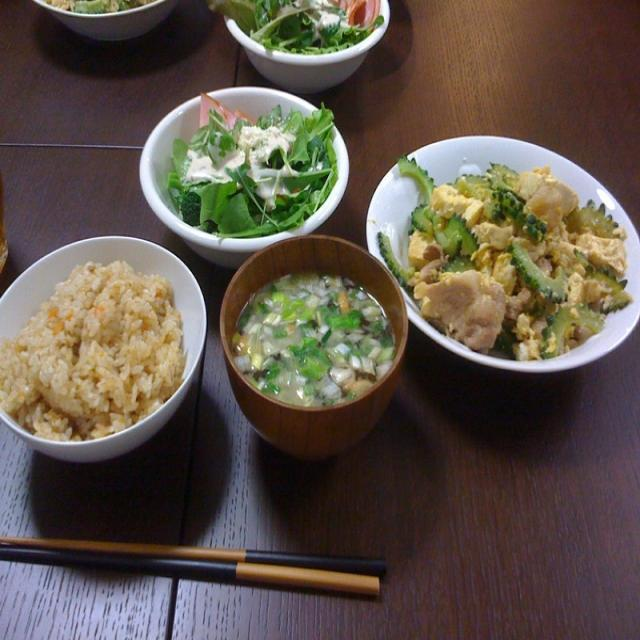Green Salad: (222, 0, 388, 70)
